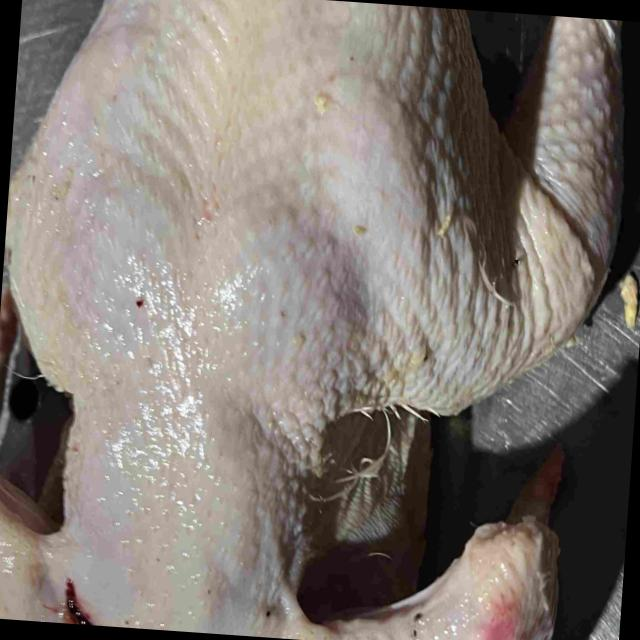back: (5, 0, 405, 418)
leg: (389, 6, 625, 421)
wing: (238, 441, 562, 640), (0, 474, 96, 625)
